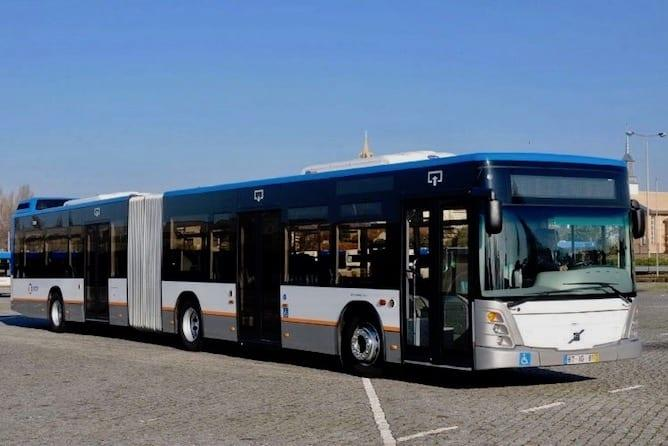vehicle: (11, 151, 646, 376)
